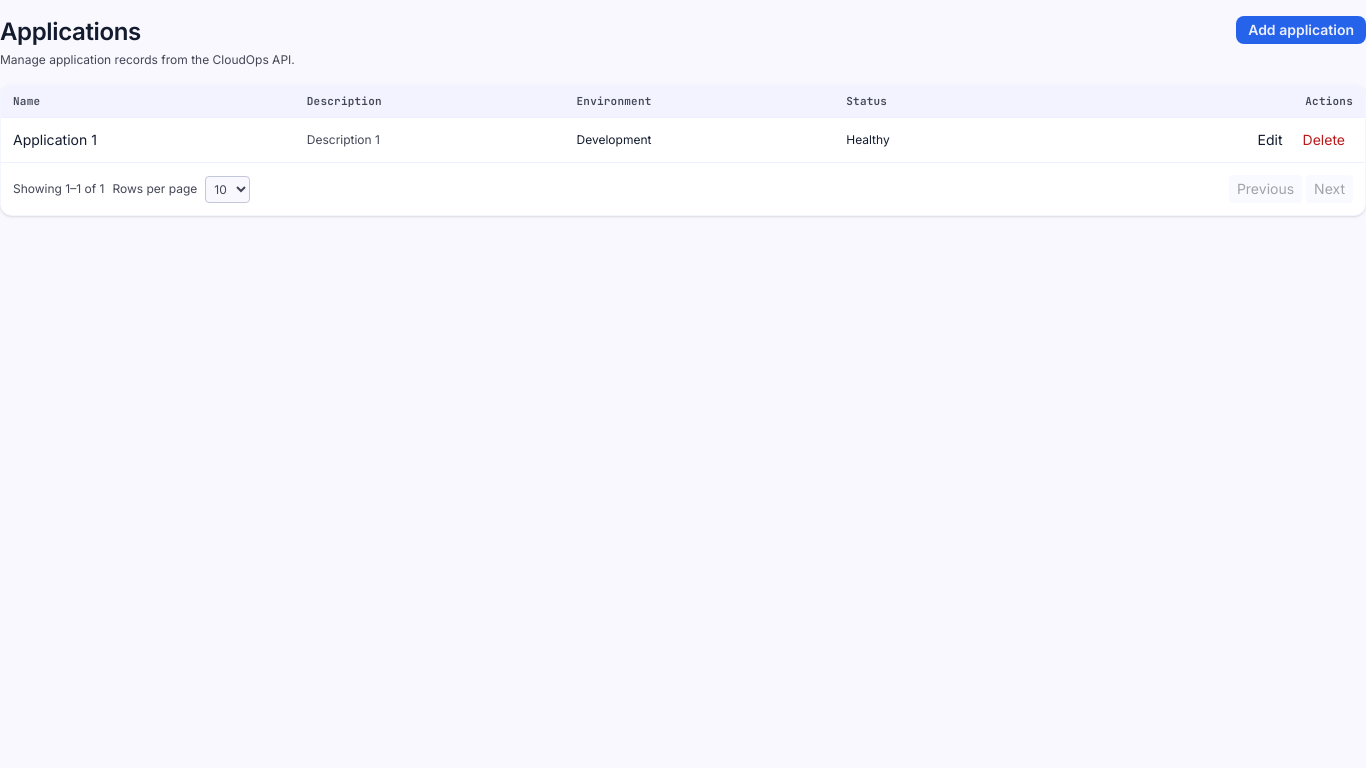
Test: ApplicationsPage › traps focus, closes on Escape, and does not delete when cancelled
The image size is (1366, 768).
Expected: the row "Application 1 Description 1 development healthy Edit Delete" is shown, [1,118,1365,162]
Click the button with aria-label "Delete Application 1" at (1324, 140), box [1295,126,1353,154]
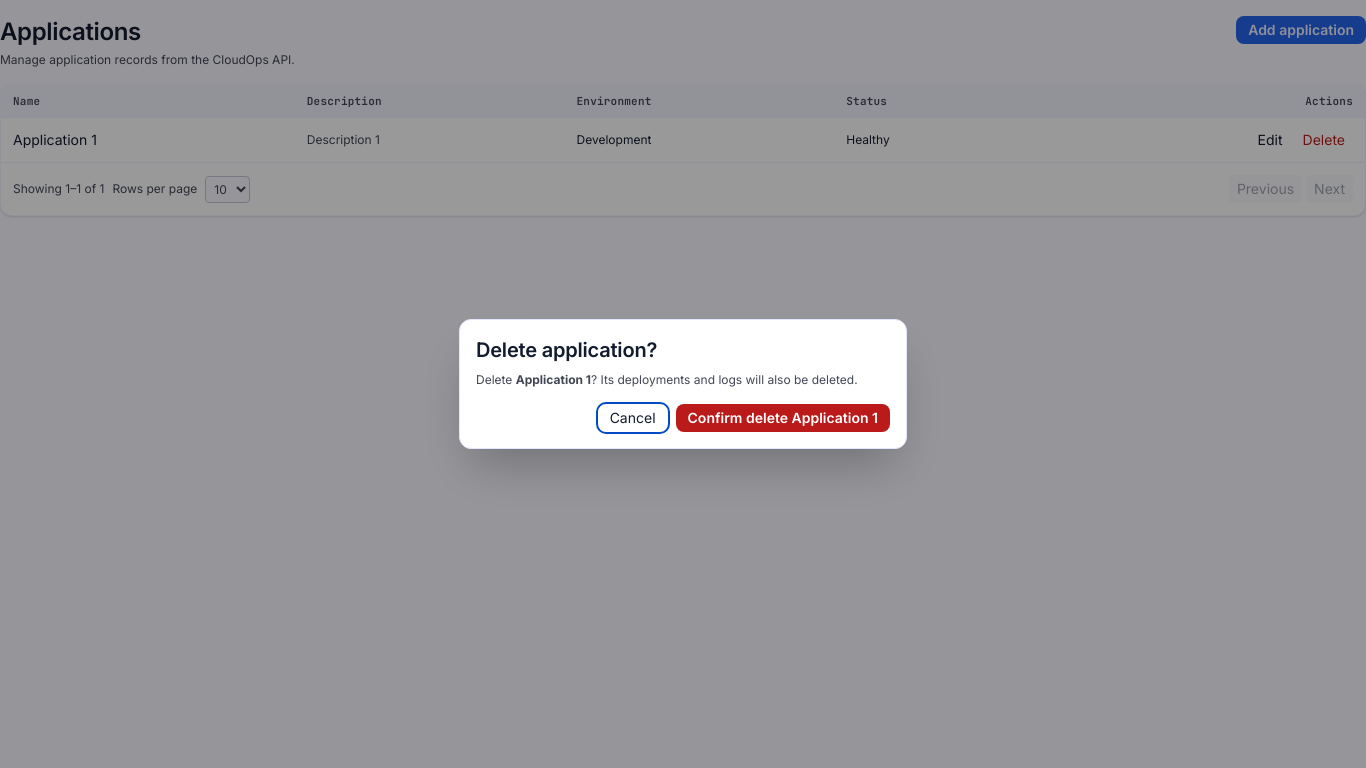
Now the text "deployments and logs will also be deleted" is shown, box [591,372,858,387]
Press Tab
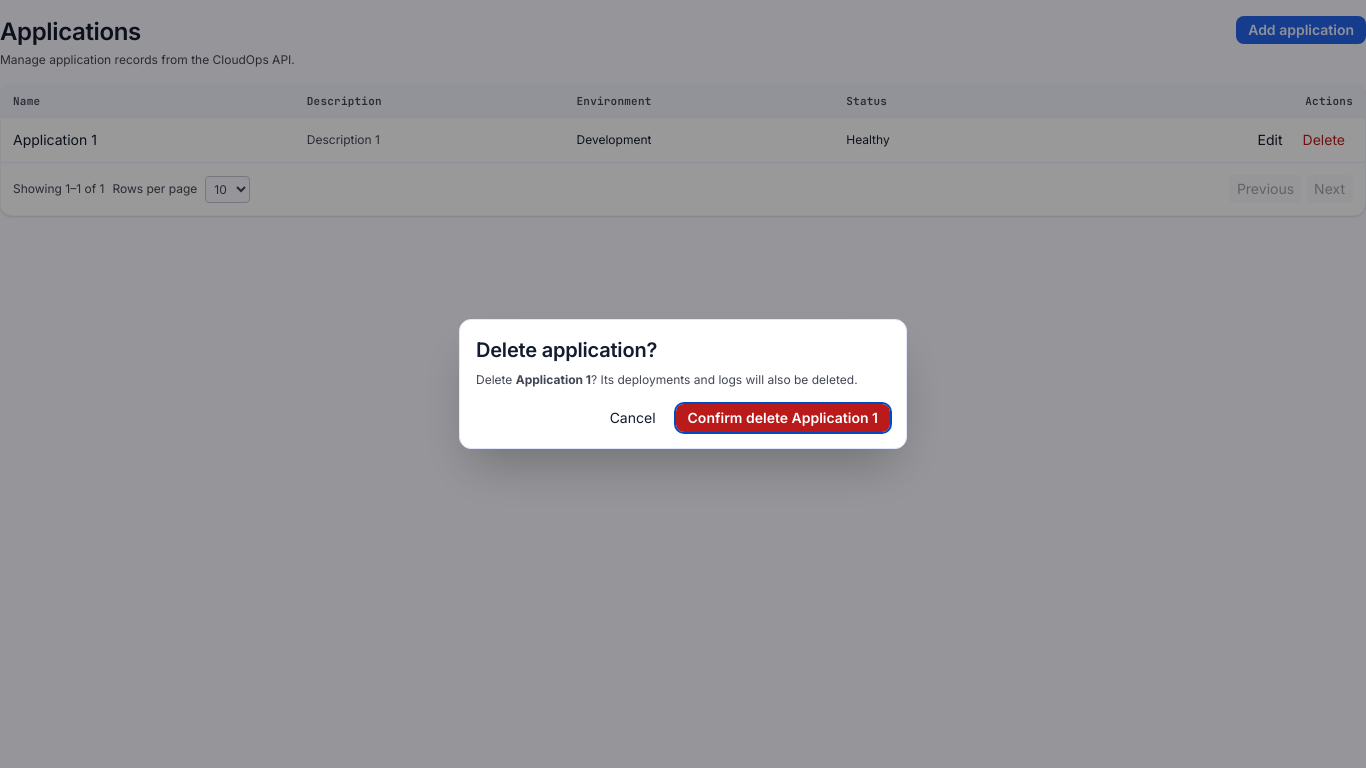
Press Tab
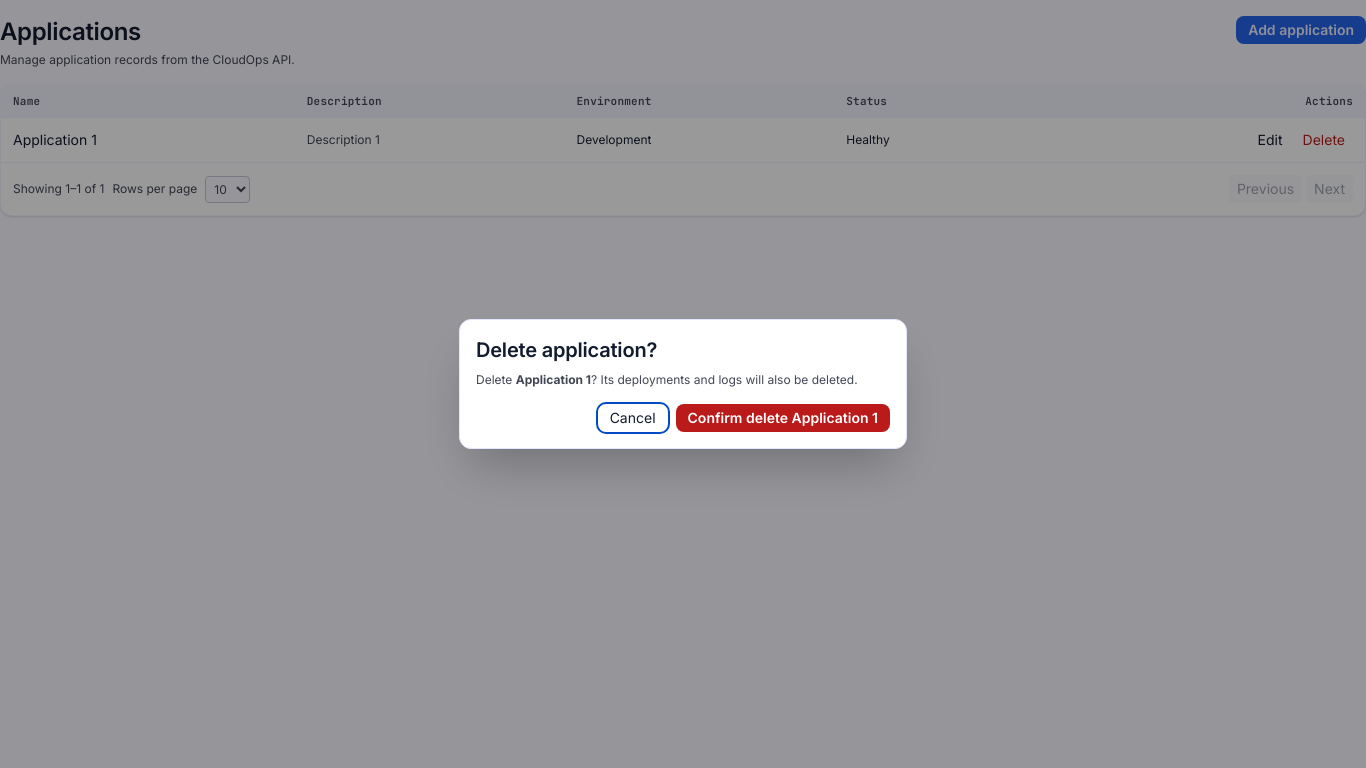
Press Escape in the dialog "Delete application?", box [459,319,907,449]
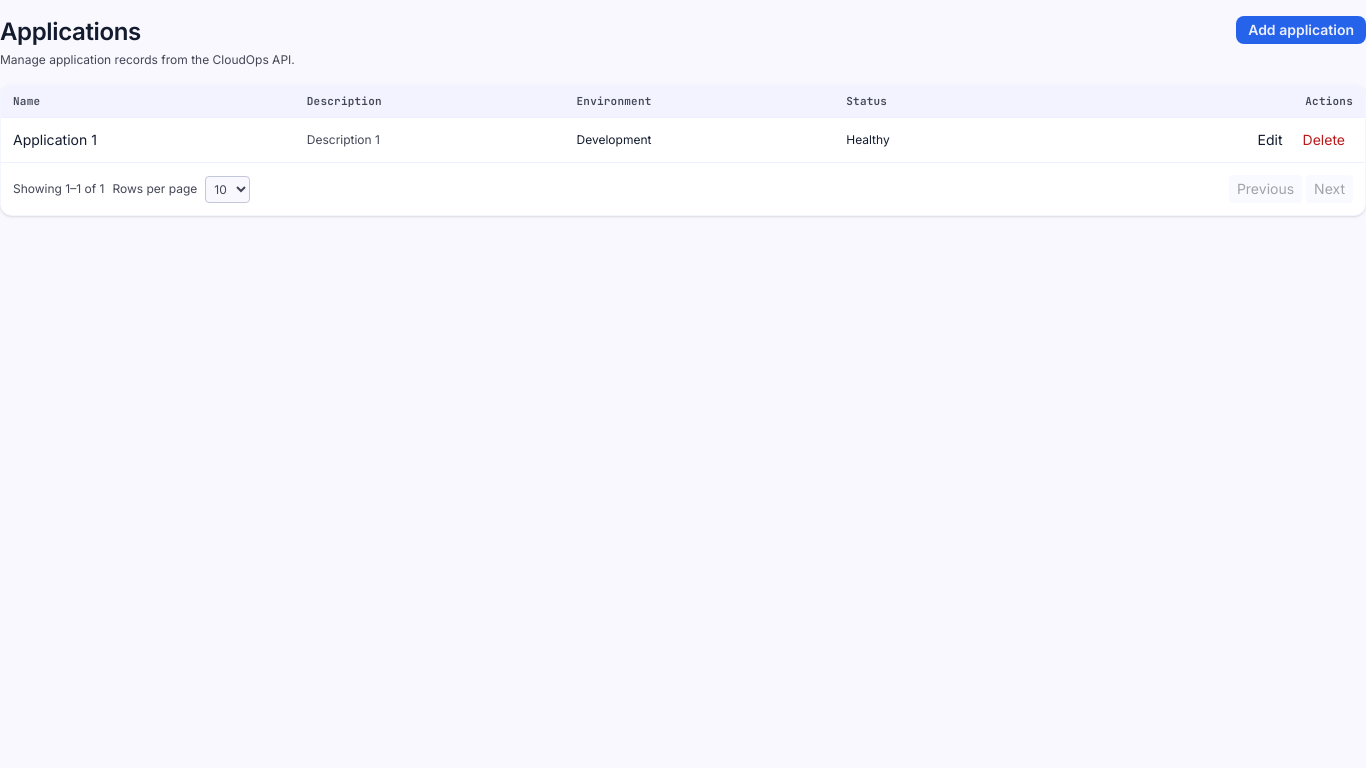
Now the dialog is gone
